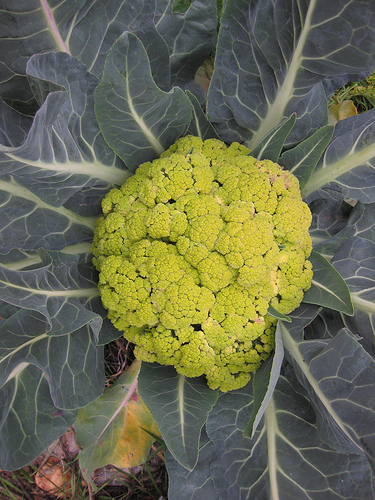cauliflower: (92, 136, 315, 385)
